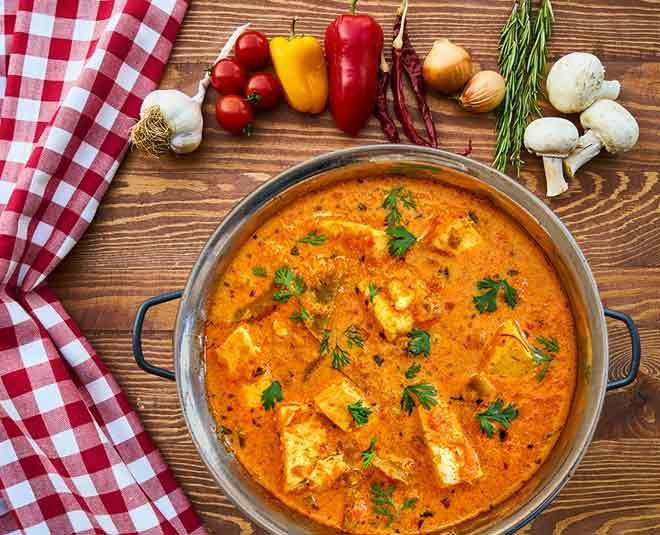ShahiPaneer: (208, 179, 576, 535)
